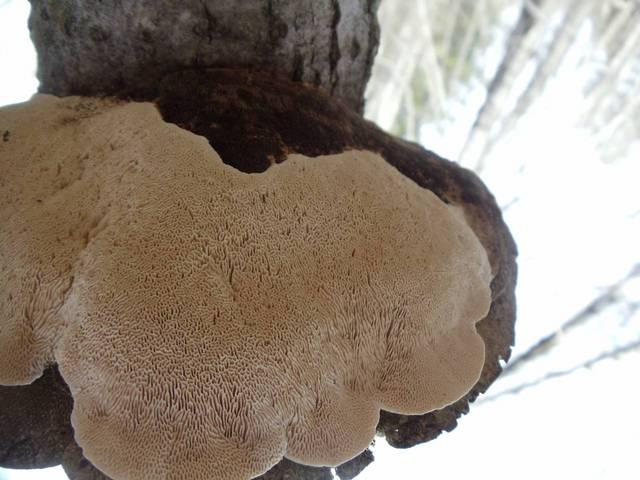Non-edible Mushroom: (0, 74, 500, 479)
